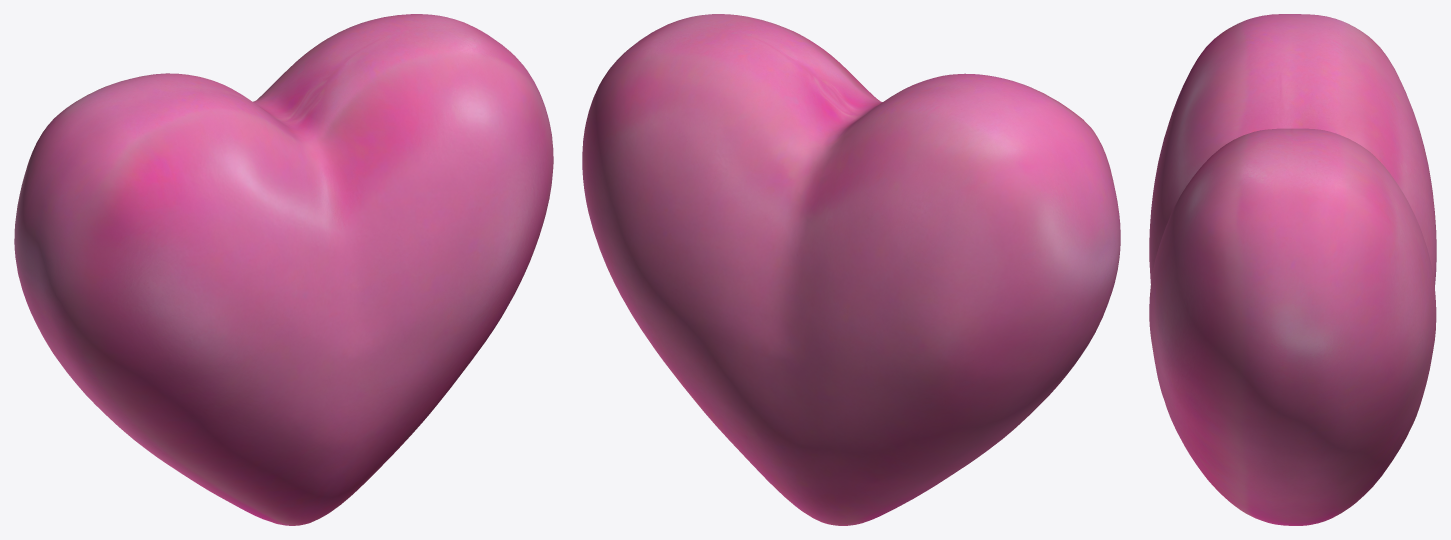
File: pink_heart.glb
The picture shows the model from 3 angles, left to right: view 1: azimuth 30°, elevation 25°; view 2: azimuth 150°, elevation 25°; view 3: azimuth 270°, elevation 25°; orthographic projection. The views are drawn at different scales.
Size of the model in its own units: 2.01 by 1.74 by 1.04.
1 material, 1 textured.
